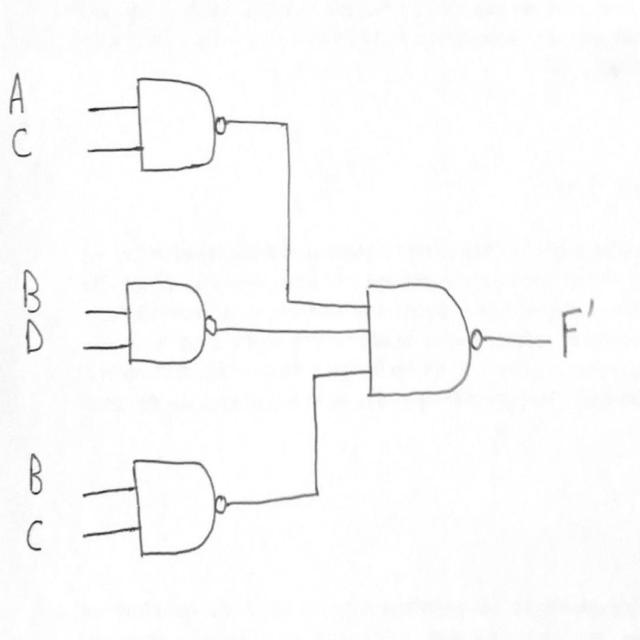NAND: (350, 258, 490, 424), (125, 65, 238, 194), (119, 442, 237, 564), (119, 265, 235, 387)
